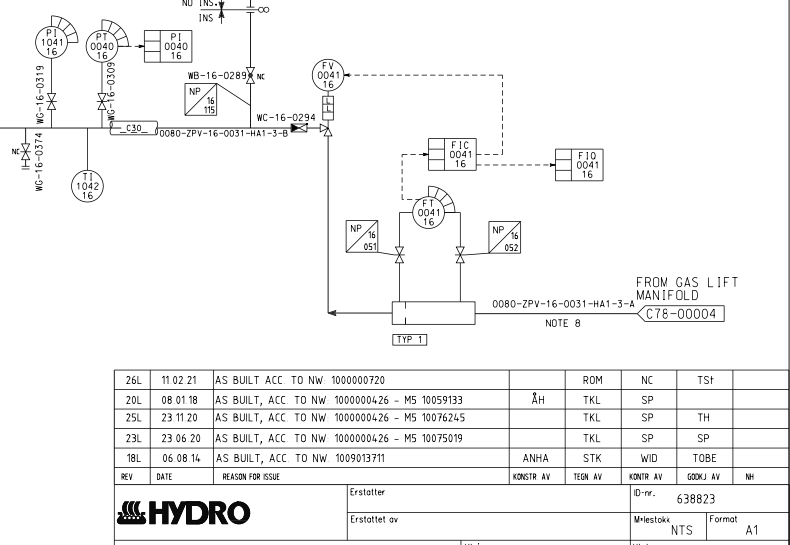Instrument: (408, 195, 451, 231), (65, 167, 106, 204), (305, 57, 346, 92), (32, 24, 71, 60), (84, 28, 119, 64)
Instrument-square: (552, 145, 607, 185), (141, 26, 196, 66), (425, 135, 480, 173)
